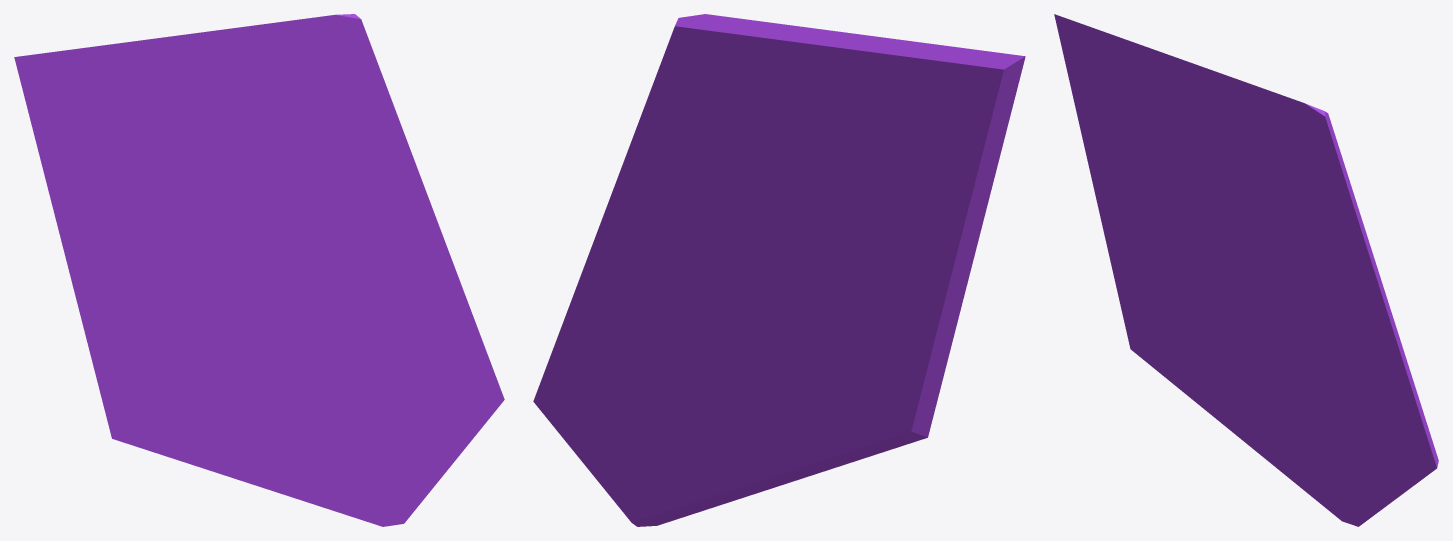
The model's file is Glass_83_2_1_chunks.fbx.
3 views of the same model, side by side, from view 1: azimuth 30°, elevation 25°; view 2: azimuth 150°, elevation 25°; view 3: azimuth 330°, elevation 25° (orthographic). The views are drawn at different scales.
Visible parts, largest first — view 1: Glass_83_2_1_6, Glass_83_2_1_10, Glass_83_2_1_5, Glass_83_2_1_13, Glass_83_2_1_9, Glass_83_2_1_3, Glass_83_2_1_7, Glass_83_2_1_4, Glass_83_2_1_11, Glass_83_2_1_18, Glass_83_2_1_16, Glass_83_2_1_12 (+6 smaller); view 2: Glass_83_2_1_6, Glass_83_2_1_11, Glass_83_2_1_10, Glass_83_2_1_13, Glass_83_2_1_9, Glass_83_2_1_3, Glass_83_2_1_7, Glass_83_2_1_5, Glass_83_2_1_8, Glass_83_2_1_12, Glass_83_2_1_4, Glass_83_2_1_18 (+6 smaller); view 3: Glass_83_2_1_6, Glass_83_2_1_10, Glass_83_2_1_5, Glass_83_2_1_3, Glass_83_2_1_13, Glass_83_2_1_9, Glass_83_2_1_4, Glass_83_2_1_7, Glass_83_2_1_11, Glass_83_2_1_18, Glass_83_2_1_16, Glass_83_2_1_12 (+6 smaller).
Part boxes in pixels (box(x1,y1,x2,y2)): Glass_83_2_1_6: box(88, 337, 297, 484); Glass_83_2_1_10: box(196, 14, 390, 146); Glass_83_2_1_5: box(123, 283, 337, 420); Glass_83_2_1_13: box(54, 211, 196, 346); Glass_83_2_1_9: box(227, 102, 388, 305); Glass_83_2_1_3: box(379, 279, 504, 464); Glass_83_2_1_7: box(254, 411, 451, 526); Glass_83_2_1_4: box(311, 98, 433, 305); Glass_83_2_1_11: box(26, 104, 181, 213); Glass_83_2_1_18: box(14, 39, 160, 111); Glass_83_2_1_16: box(150, 56, 276, 165); Glass_83_2_1_12: box(185, 168, 262, 314); Glass_83_2_1_6: box(723, 332, 951, 483); Glass_83_2_1_11: box(824, 75, 1013, 226); Glass_83_2_1_10: box(643, 14, 848, 155); Glass_83_2_1_13: box(842, 213, 985, 347); Glass_83_2_1_9: box(642, 110, 798, 307); Glass_83_2_1_3: box(533, 295, 647, 460); Glass_83_2_1_7: box(583, 423, 784, 526); Glass_83_2_1_5: box(705, 289, 878, 404); Glass_83_2_1_8: box(581, 315, 727, 462); Glass_83_2_1_12: box(759, 152, 854, 320); Glass_83_2_1_4: box(615, 113, 696, 292); Glass_83_2_1_18: box(892, 38, 1025, 102); Glass_83_2_1_6: box(1112, 268, 1275, 439); Glass_83_2_1_10: box(1196, 64, 1352, 191); Glass_83_2_1_5: box(1139, 274, 1306, 406); Glass_83_2_1_3: box(1339, 349, 1438, 498); Glass_83_2_1_13: box(1085, 151, 1196, 284); Glass_83_2_1_9: box(1221, 184, 1353, 300); Glass_83_2_1_4: box(1286, 189, 1381, 353); Glass_83_2_1_7: box(1241, 405, 1395, 526); Glass_83_2_1_11: box(1063, 55, 1184, 193); Glass_83_2_1_18: box(1054, 14, 1168, 101); Glass_83_2_1_16: box(1160, 88, 1259, 193); Glass_83_2_1_12: box(1187, 195, 1248, 289).
Bounding box in the file's own units: 1087 × 1192 × 27.2.
